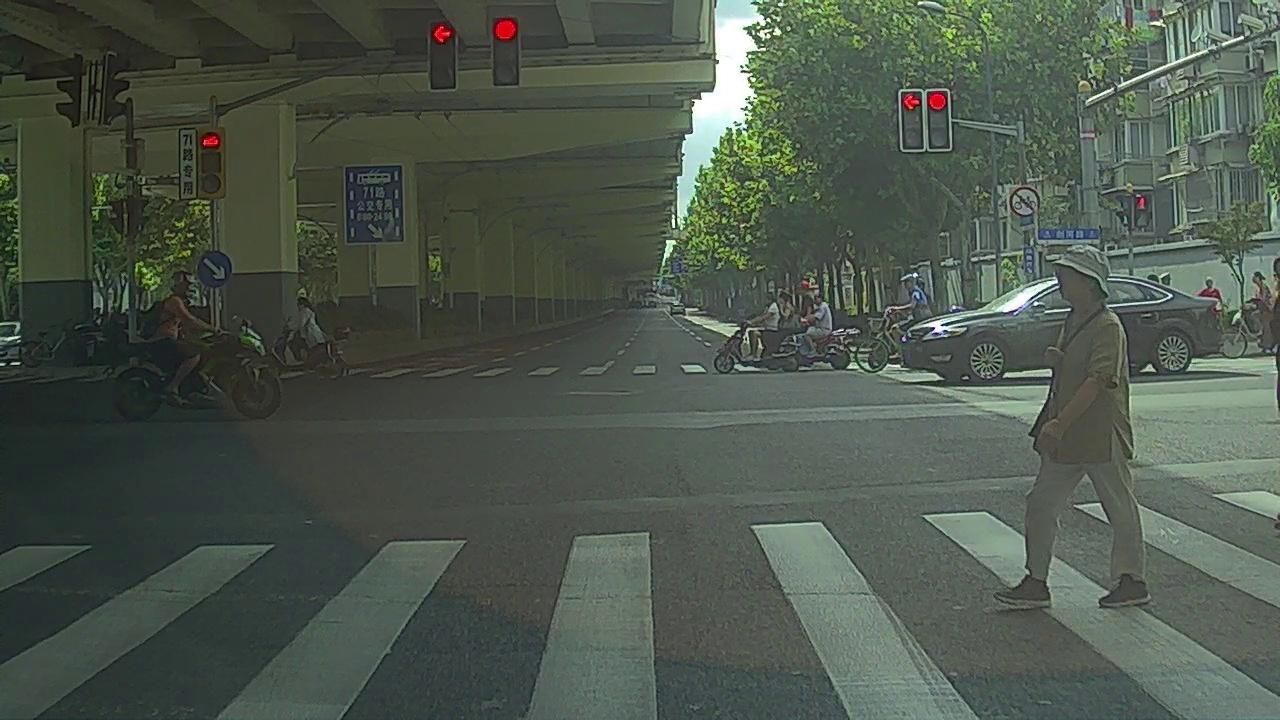traffic_light: (493, 16, 521, 86), (432, 21, 455, 89), (926, 89, 951, 149), (900, 90, 923, 148)
